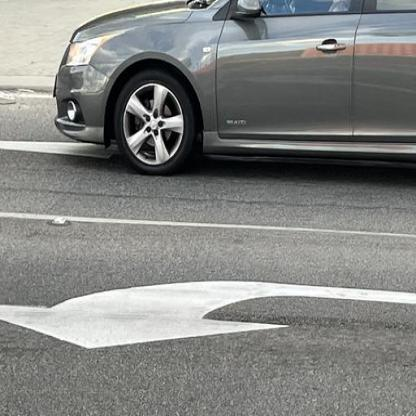Tire: (114, 69, 198, 177)
